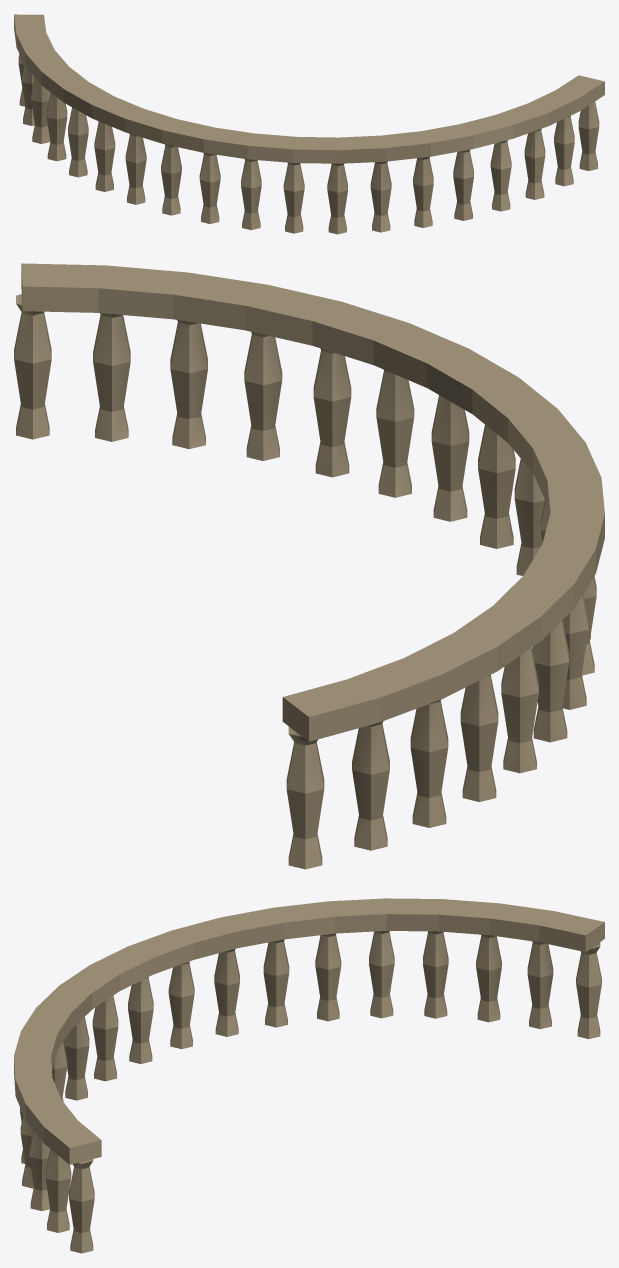
The model's file is LookoutRail.glb.
3 renders of one model, top to bottom at view 1: azimuth 30°, elevation 25°; view 2: azimuth 150°, elevation 25°; view 3: azimuth 270°, elevation 25°, orthographic. The views are drawn at different scales.
Visible parts, largest first — view 1: Rail; view 2: Rail; view 3: Rail.
Boxes of the visible parts, x1,y1,x2,y2 form: Rail: [14, 14, 604, 234]; Rail: [14, 263, 604, 869]; Rail: [14, 898, 604, 1253].
Bounding box in the file's own units: 14.33 × 2.85 × 14.33.
